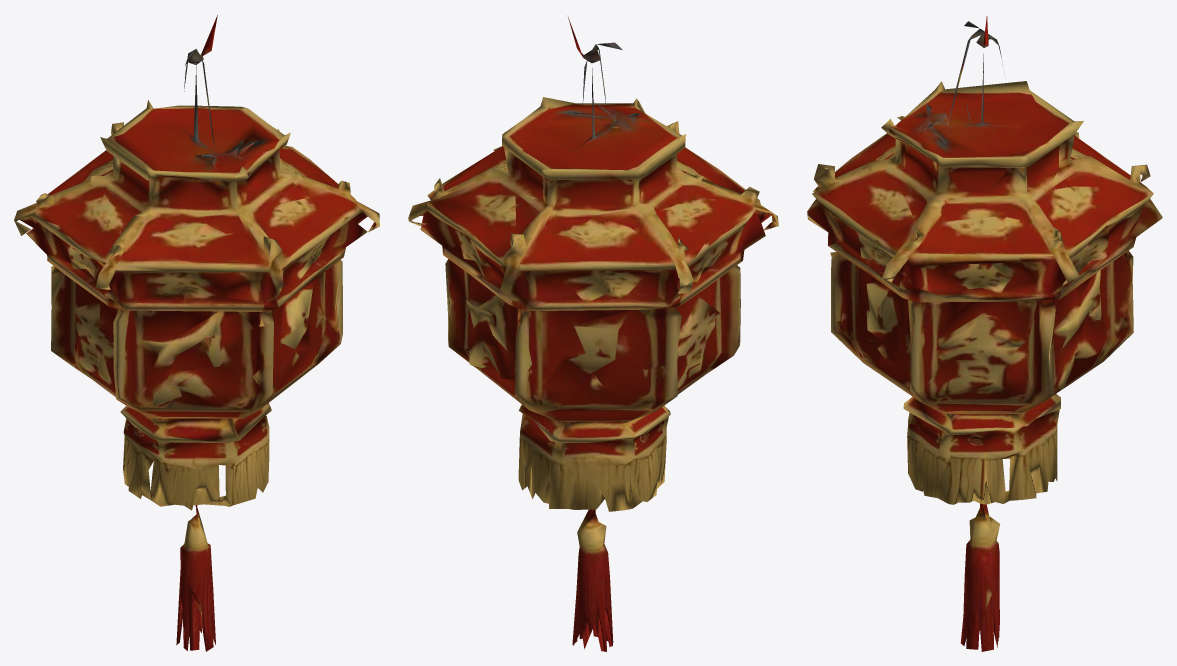
The model's file is lantern.glb.
3 renders of one model, left to right at view 1: azimuth 30°, elevation 25°; view 2: azimuth 150°, elevation 25°; view 3: azimuth 270°, elevation 25°, orthographic. The views are drawn at different scales.
Parts seen in each view (by area): view 1: tripo_node_c190e653-3046-484c-9c09-6f642f215cef; view 2: tripo_node_c190e653-3046-484c-9c09-6f642f215cef; view 3: tripo_node_c190e653-3046-484c-9c09-6f642f215cef.
Boxes of the visible parts, x1=… form: tripo_node_c190e653-3046-484c-9c09-6f642f215cef: x1=14, y1=15, x2=379, y2=651; tripo_node_c190e653-3046-484c-9c09-6f642f215cef: x1=408, y1=17, x2=778, y2=651; tripo_node_c190e653-3046-484c-9c09-6f642f215cef: x1=807, y1=16, x2=1162, y2=651.
Size of the model in its own units: 0.2386 by 0.4985 by 0.2505.
1 material, 1 textured.
